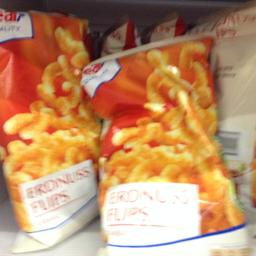chips: (82, 36, 244, 254), (0, 7, 101, 250)
